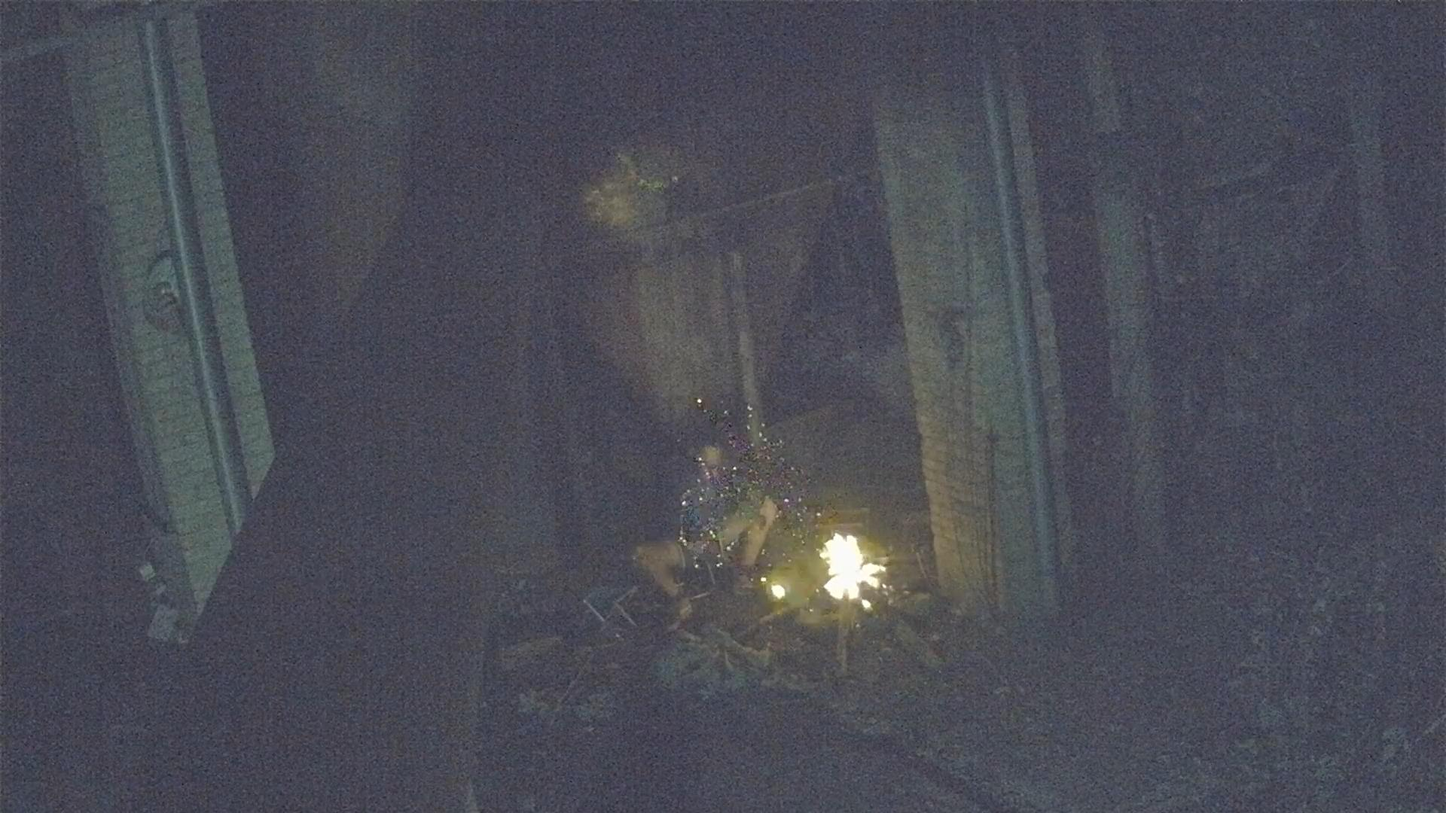fire: (819, 533, 884, 603), (767, 572, 811, 604)
